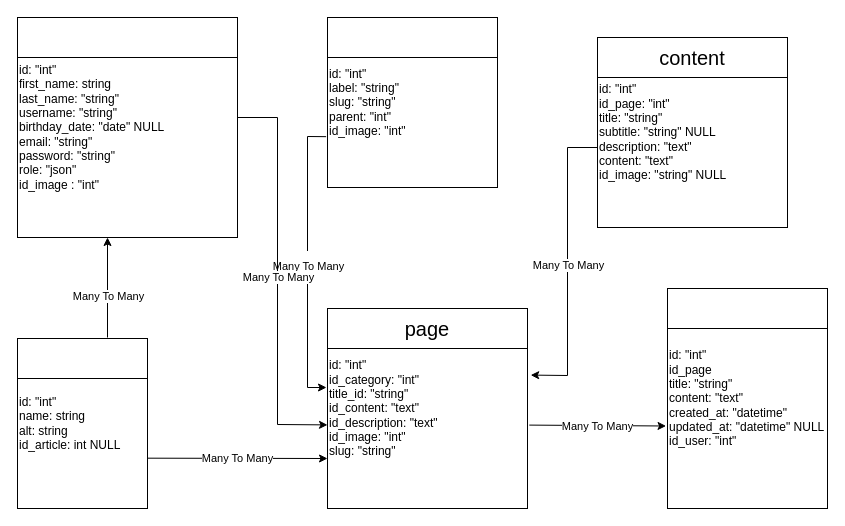
The diagram is 845 pixels wide and 526 high, and some of its shapes have lost their labels. The box of each missing label's shape, as (x1, y1, x2, y2) in pixels:
article: (666, 288, 828, 328)
category: (326, 16, 498, 58)
image: (16, 338, 148, 378)
user: (16, 16, 238, 58)
